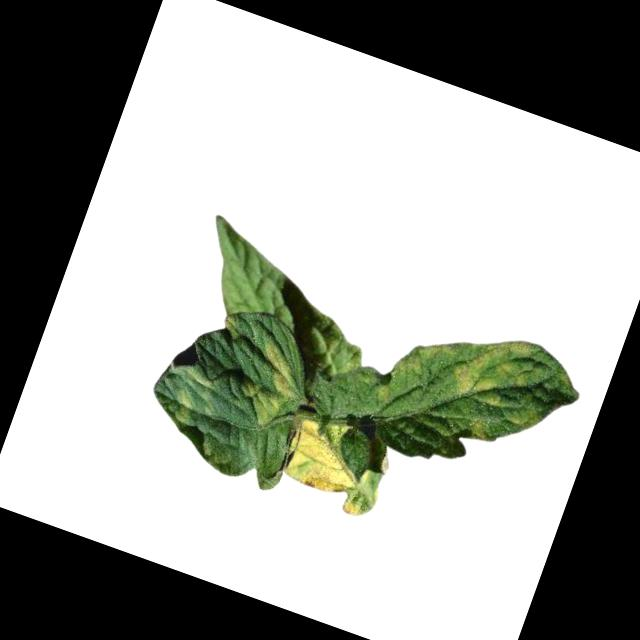Leaf_Mold: (435, 320, 562, 457), (272, 406, 396, 521), (232, 334, 311, 433)
